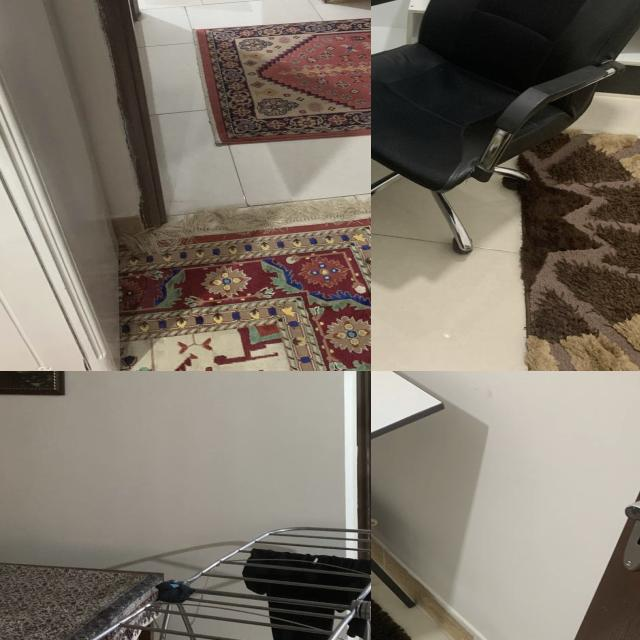Floor: (137, 0, 371, 216), (371, 158, 528, 371), (572, 93, 640, 140)
Wall: (371, 371, 640, 640), (0, 371, 356, 570), (52, 0, 140, 193)
